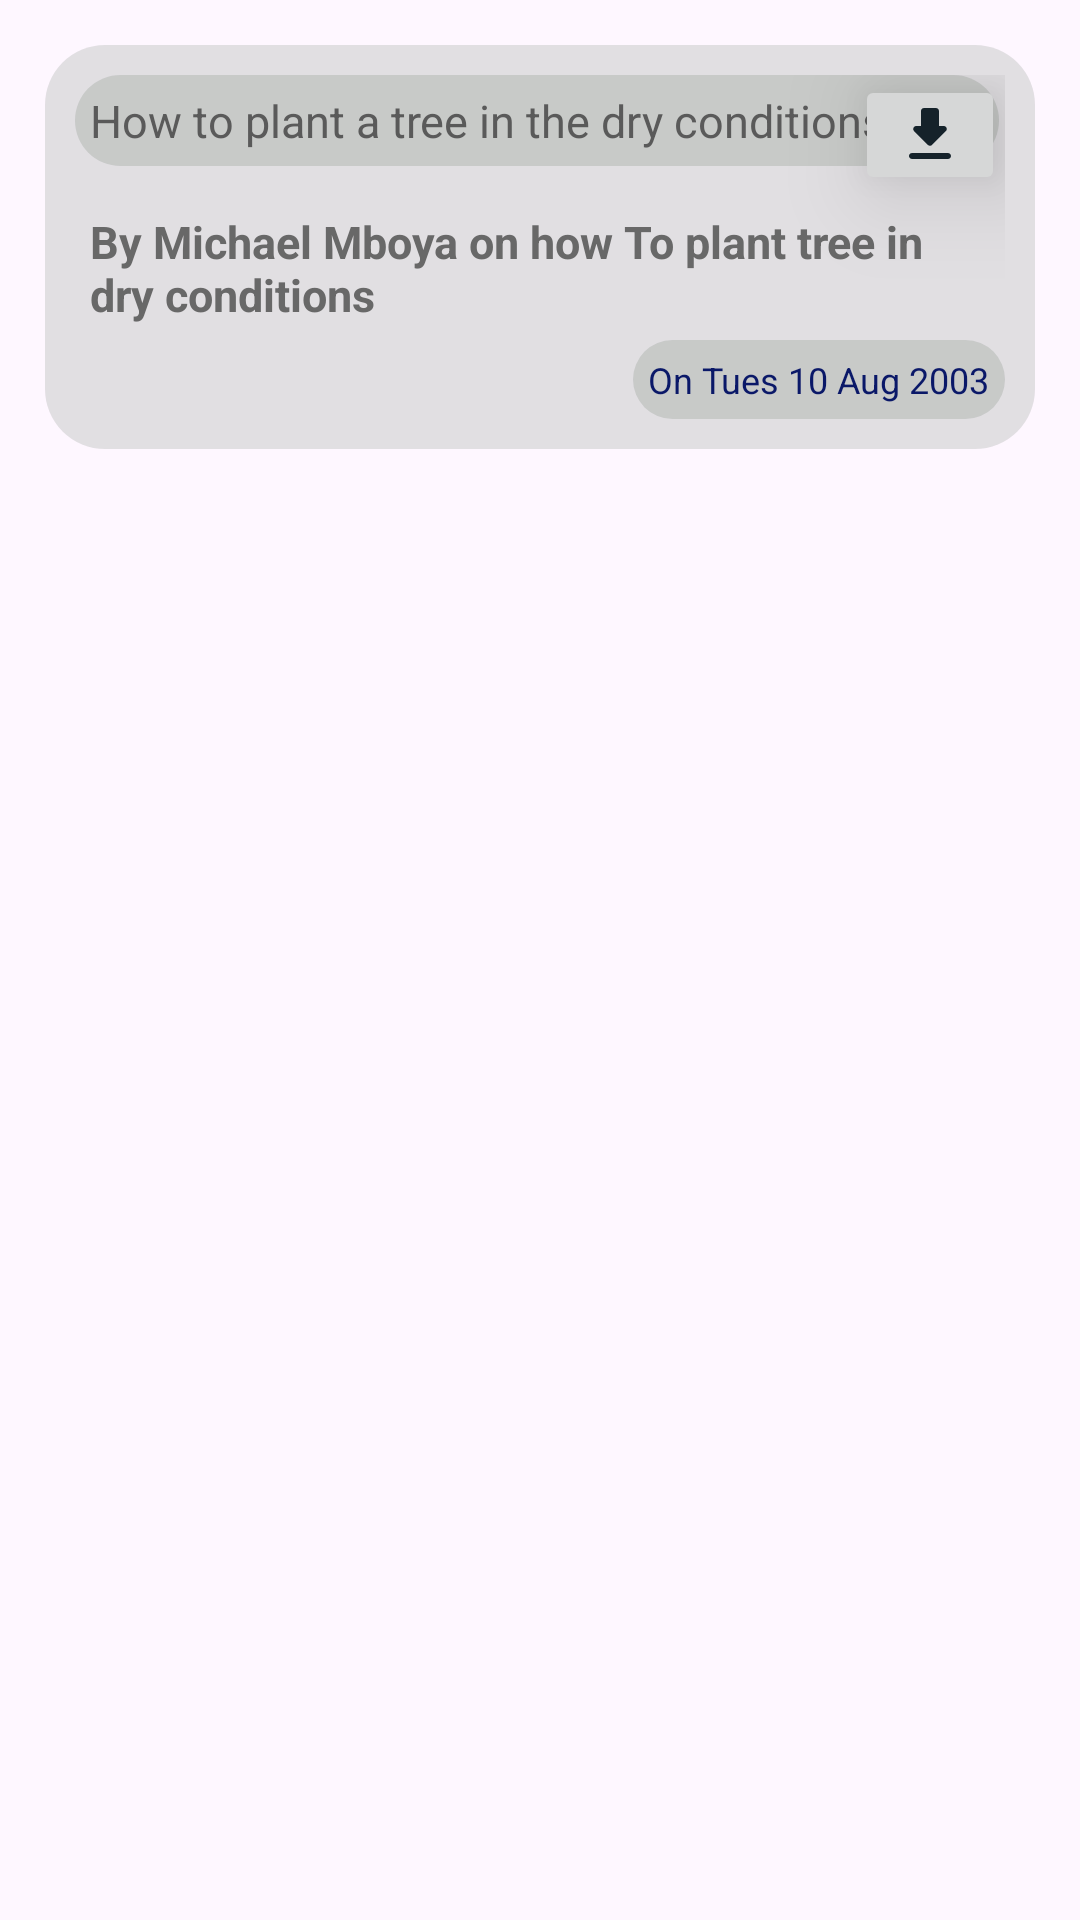

Screen size 1080 × 1920. Icon name, then its box in pixels as (x1, y1, x2, y2):
To download the file: (855, 80, 999, 166)
